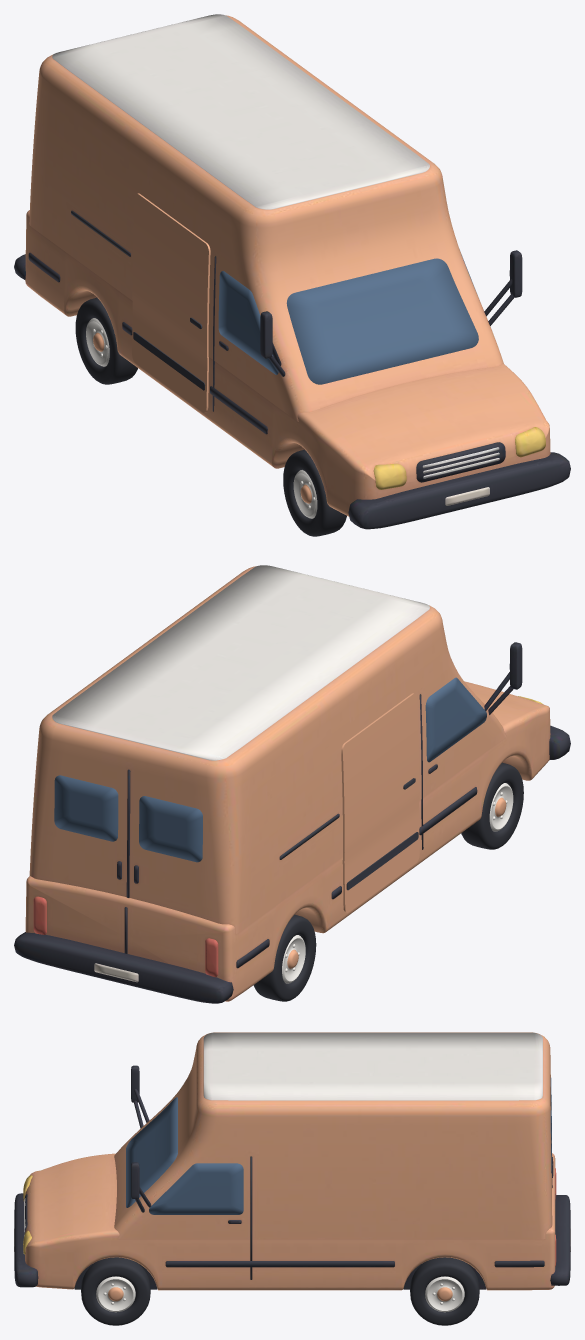
The model's file is delivery-van.glb.
3 views of the same model, one above another, from view 1: azimuth 30°, elevation 25°; view 2: azimuth 150°, elevation 25°; view 3: azimuth 270°, elevation 25° (orthographic). The views are drawn at different scales.
Visible parts, largest first — view 1: delivery-van_body, delivery-van_windows, delivery-van_sliding_door, delivery-van_wheel_fr, delivery-van_wheel_rr; view 2: delivery-van_body, delivery-van_sliding_door, delivery-van_windows, delivery-van_wheel_fr, delivery-van_wheel_rr; view 3: delivery-van_body, delivery-van_windows, delivery-van_wheel_fl, delivery-van_wheel_rl.
Boxes of the visible parts, left/top/right/bottom form: delivery-van_body: left=14, top=14, right=570, bottom=529; delivery-van_windows: left=218, top=254, right=478, bottom=384; delivery-van_sliding_door: left=132, top=193, right=210, bottom=412; delivery-van_wheel_fr: left=283, top=449, right=346, bottom=536; delivery-van_wheel_rr: left=75, top=297, right=137, bottom=384; delivery-van_body: left=14, top=565, right=570, bottom=1003; delivery-van_sliding_door: left=341, top=693, right=419, bottom=912; delivery-van_windows: left=54, top=677, right=486, bottom=862; delivery-van_wheel_fr: left=461, top=762, right=523, bottom=849; delivery-van_wheel_rr: left=253, top=914, right=316, bottom=1001; delivery-van_body: left=14, top=1032, right=570, bottom=1290; delivery-van_windows: left=126, top=1078, right=551, bottom=1214; delivery-van_wheel_fl: left=81, top=1257, right=150, bottom=1325; delivery-van_wheel_rl: left=410, top=1257, right=479, bottom=1325.
Size of the model in its own units: 2.44 by 2.54 by 5.76.
16 materials, 1 textured.
